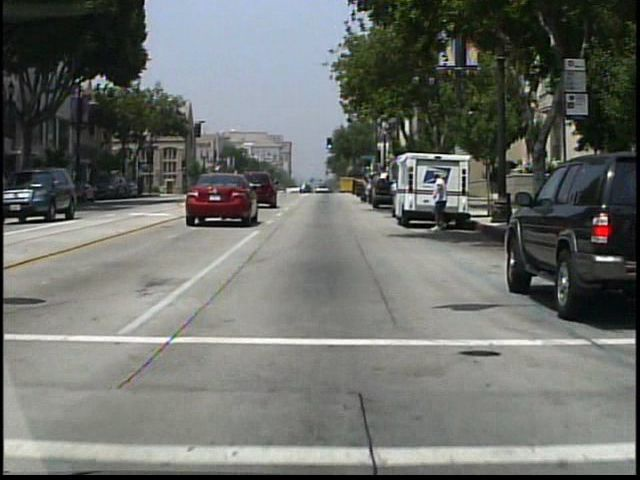person: (426, 172, 457, 234), (355, 173, 377, 210)
